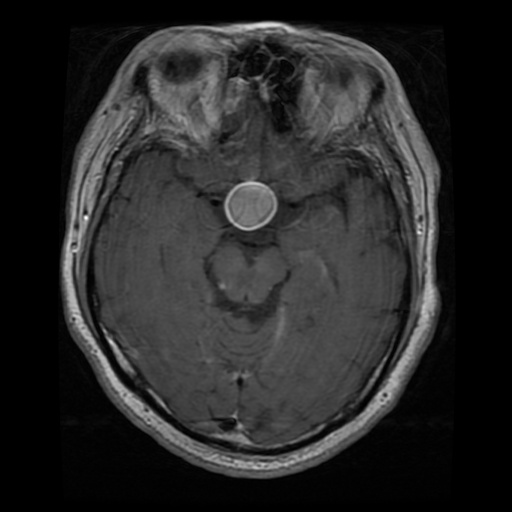pituitary: (226, 183, 277, 230)
